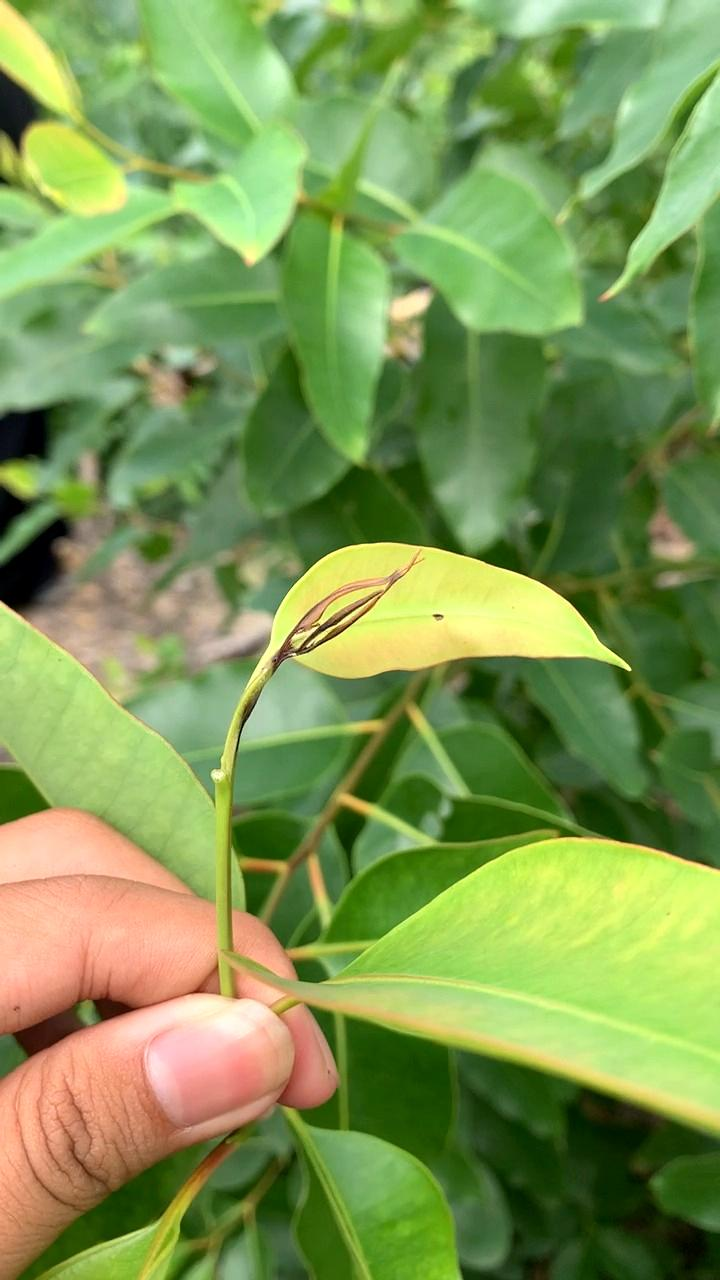Helopeltis-Withered Sprout: (257, 528, 443, 695)
